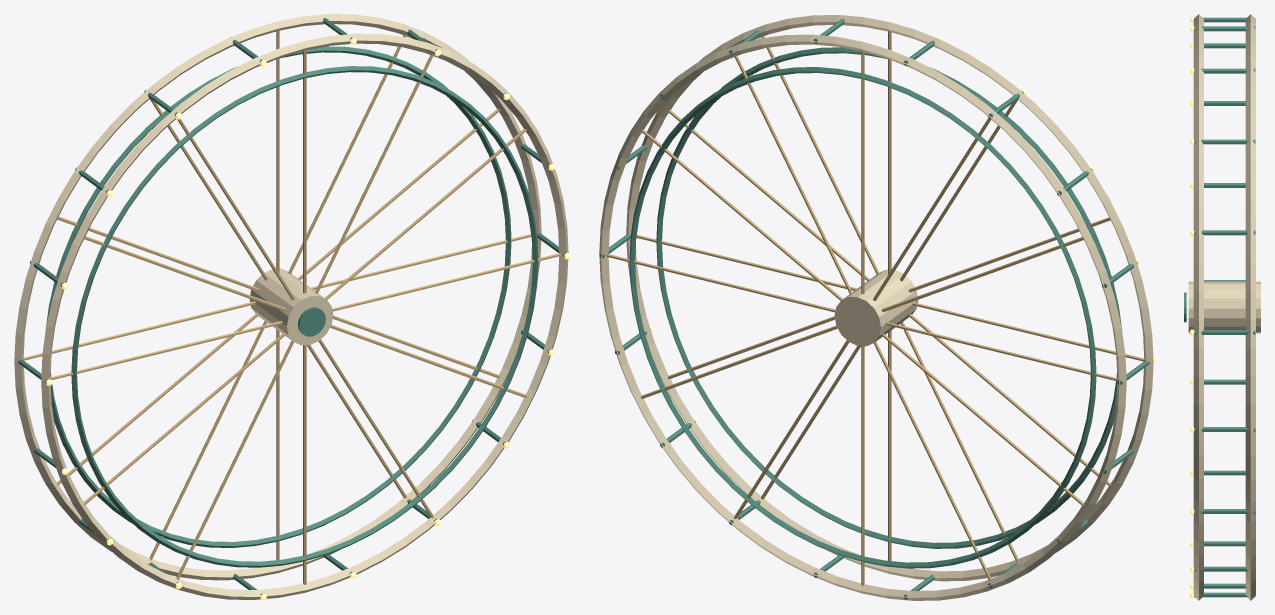
File: tpe5_miramar_wheel_rotor.glb
3 renders of one model, left to right at view 1: azimuth 30°, elevation 25°; view 2: azimuth 150°, elevation 25°; view 3: azimuth 270°, elevation 25°, orthographic. The views are drawn at different scales.
Visible parts, largest first — view 1: tpe5_miramar_wheel_rotor__tpe5-mall-ivory, tpe5_miramar_wheel_rotor__tpe5-mall-brass, tpe5_miramar_wheel_rotor__tpe5-mall-jade, tpe5_miramar_wheel_rotor__tpe5-emissive-mall; view 2: tpe5_miramar_wheel_rotor__tpe5-mall-ivory, tpe5_miramar_wheel_rotor__tpe5-mall-brass, tpe5_miramar_wheel_rotor__tpe5-mall-jade; view 3: tpe5_miramar_wheel_rotor__tpe5-mall-ivory, tpe5_miramar_wheel_rotor__tpe5-mall-jade, tpe5_miramar_wheel_rotor__tpe5-emissive-mall.
Boxes of the visible parts, x1=… form: tpe5_miramar_wheel_rotor__tpe5-mall-ivory: x1=14, y1=14, x2=568, y2=599; tpe5_miramar_wheel_rotor__tpe5-mall-brass: x1=23, y1=30, x2=561, y2=585; tpe5_miramar_wheel_rotor__tpe5-mall-jade: x1=18, y1=17, x2=565, y2=597; tpe5_miramar_wheel_rotor__tpe5-emissive-mall: x1=46, y1=38, x2=570, y2=600; tpe5_miramar_wheel_rotor__tpe5-mall-ivory: x1=599, y1=15, x2=1153, y2=600; tpe5_miramar_wheel_rotor__tpe5-mall-brass: x1=606, y1=31, x2=1144, y2=585; tpe5_miramar_wheel_rotor__tpe5-mall-jade: x1=599, y1=18, x2=1149, y2=599; tpe5_miramar_wheel_rotor__tpe5-mall-ivory: x1=1188, y1=14, x2=1260, y2=600; tpe5_miramar_wheel_rotor__tpe5-mall-jade: x1=1184, y1=17, x2=1255, y2=597; tpe5_miramar_wheel_rotor__tpe5-emissive-mall: x1=1190, y1=16, x2=1194, y2=598.
Size of the model in its own units: 26.06 by 26.06 by 3.41.
